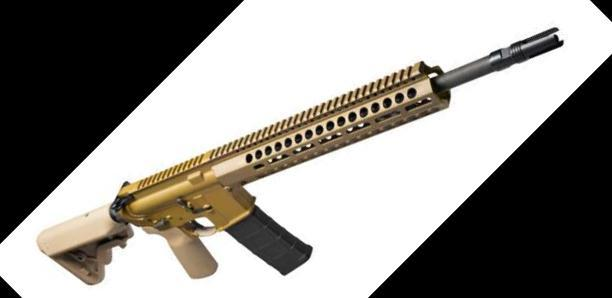larga: (36, 26, 565, 285)
